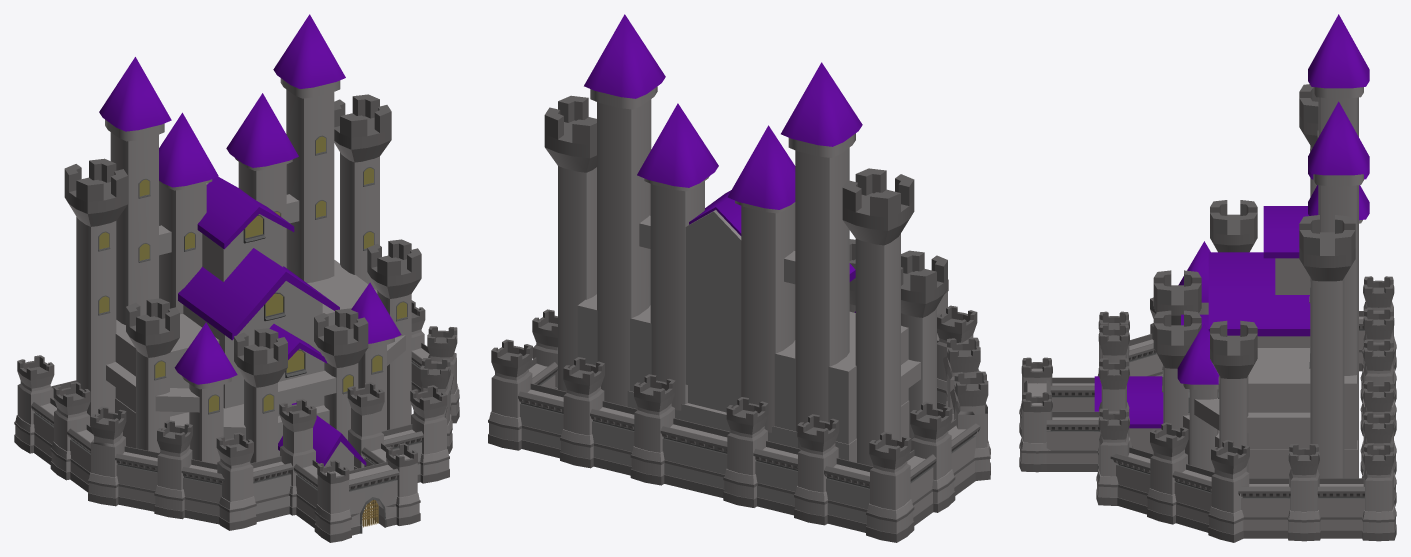
Rendered from mesh_castle.fbx.
3 views of the same model, side by side, from view 1: azimuth 30°, elevation 25°; view 2: azimuth 150°, elevation 25°; view 3: azimuth 270°, elevation 25° (orthographic). The views are drawn at different scales.
Parts seen in each view (by area): view 1: Castle; view 2: Castle; view 3: Castle.
Boxes of the visible parts, box(x1,y1,x2,y2) form: Castle: box(14, 14, 459, 542); Castle: box(488, 14, 990, 542); Castle: box(1019, 14, 1396, 542).
Bounding box in the file's own units: 29209 × 28987 × 25079.
2 materials, 2 textured.
